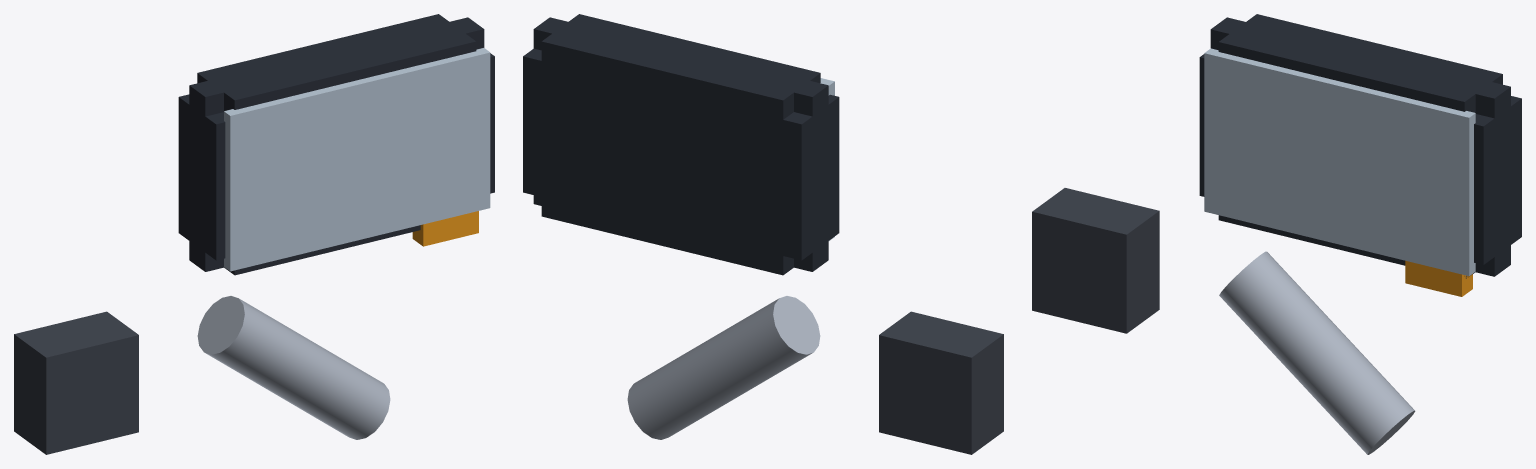
3 views of the same model, side by side, from view 1: azimuth 30°, elevation 25°; view 2: azimuth 150°, elevation 25°; view 3: azimuth 330°, elevation 25° (orthographic).
Parts seen in each view (by area): view 1: Espejo retrovisor eléctrico; view 2: Espejo retrovisor eléctrico; view 3: Espejo retrovisor eléctrico.
Part boxes in pixels (x1,y1,x2,y2): Espejo retrovisor eléctrico: (14, 14, 494, 454); Espejo retrovisor eléctrico: (523, 14, 1003, 454); Espejo retrovisor eléctrico: (1032, 14, 1521, 454).
Size of the model in its own units: 1 by 0.8218 by 0.1646.
